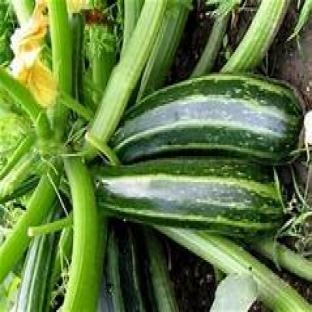Zucchini: (111, 75, 302, 163), (96, 158, 283, 235), (98, 223, 150, 311), (15, 234, 57, 311)
